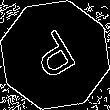P_SE: (26, 24, 84, 86)
